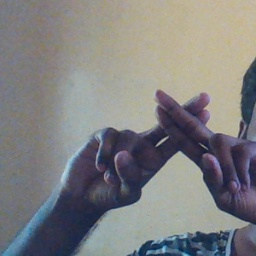F: (111, 80, 251, 191)
